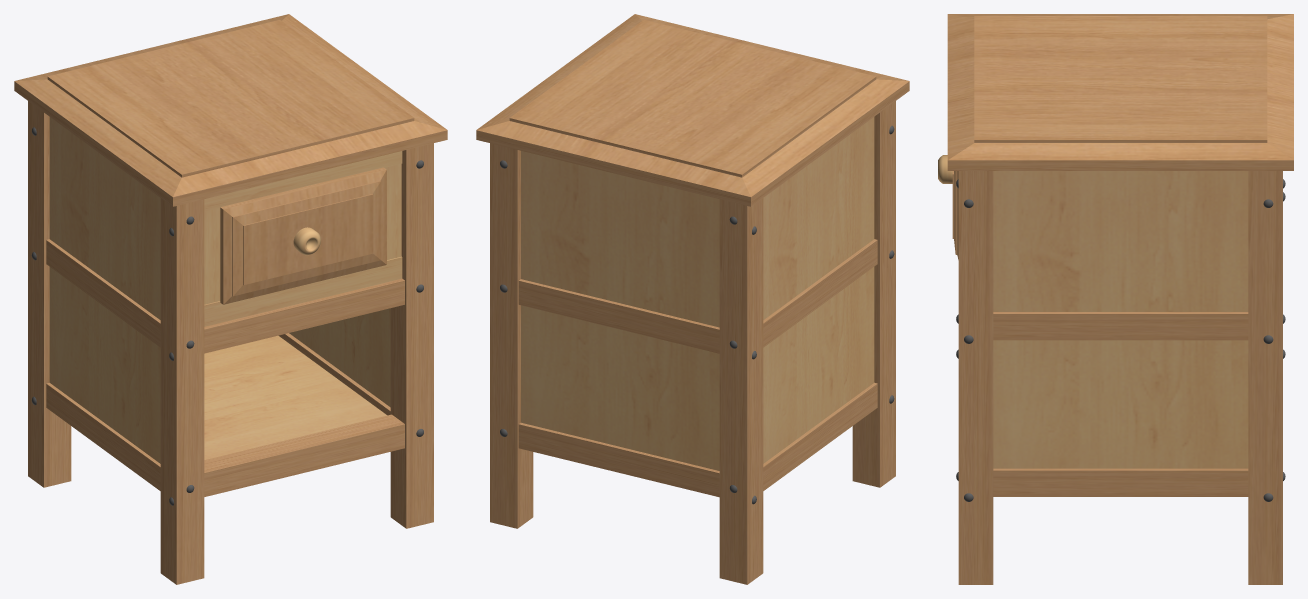
The model's file is Furniture.obj.
The picture shows the model from 3 angles, left to right: view 1: azimuth 30°, elevation 25°; view 2: azimuth 150°, elevation 25°; view 3: azimuth 270°, elevation 25°; orthographic projection. The views are drawn at different scales.
Parts seen in each view (by area): view 1: Drawer_top_Cube.004, Leg_Cube.002, Side_walls_Cube.005, Truss__Cube.017, Door_Cube.013, Base_2_Cube.016, truss_2_Cube.010, truss_3_Cube.007, Knob_Cylinder, Nut_Sphere; view 2: Side_walls_Cube.005, Drawer_top_Cube.004, Leg_Cube.002, Truss__Cube.017, Nut_Sphere; view 3: Side_walls_Cube.005, Drawer_top_Cube.004, Leg_Cube.002, Truss__Cube.017, Nut_Sphere, Door_Cube.013.
Part boxes in pixels (x1=…): Drawer_top_Cube.004: x1=14, y1=14, x2=447, y2=206; Leg_Cube.002: x1=28, y1=101, x2=433, y2=584; Side_walls_Cube.005: x1=49, y1=117, x2=390, y2=463; Truss__Cube.017: x1=46, y1=239, x2=404, y2=496; Door_Cube.013: x1=220, y1=167, x2=386, y2=304; Base_2_Cube.016: x1=204, y1=335, x2=387, y2=459; truss_2_Cube.010: x1=204, y1=151, x2=402, y2=326; truss_3_Cube.007: x1=204, y1=164, x2=401, y2=304; Knob_Cylinder: x1=293, y1=227, x2=320, y2=255; Nut_Sphere: x1=31, y1=127, x2=423, y2=505; Side_walls_Cube.005: x1=521, y1=117, x2=874, y2=470; Drawer_top_Cube.004: x1=476, y1=14, x2=909, y2=206; Leg_Cube.002: x1=490, y1=101, x2=895, y2=584; Truss__Cube.017: x1=518, y1=239, x2=877, y2=497; Nut_Sphere: x1=500, y1=125, x2=894, y2=504; Side_walls_Cube.005: x1=993, y1=171, x2=1248, y2=468; Drawer_top_Cube.004: x1=947, y1=14, x2=1293, y2=170; Leg_Cube.002: x1=958, y1=171, x2=1282, y2=584; Truss__Cube.017: x1=993, y1=312, x2=1248, y2=496; Nut_Sphere: x1=956, y1=179, x2=1285, y2=501; Door_Cube.013: x1=952, y1=171, x2=958, y2=259.
Size of the model in its own units: 2.39 by 3.34 by 2.46.
Materials: 1 (1 with a texture image).
